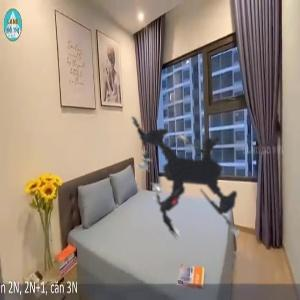drone: (74, 65, 297, 288)
